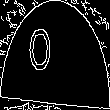O_S: (43, 27, 67, 83)
